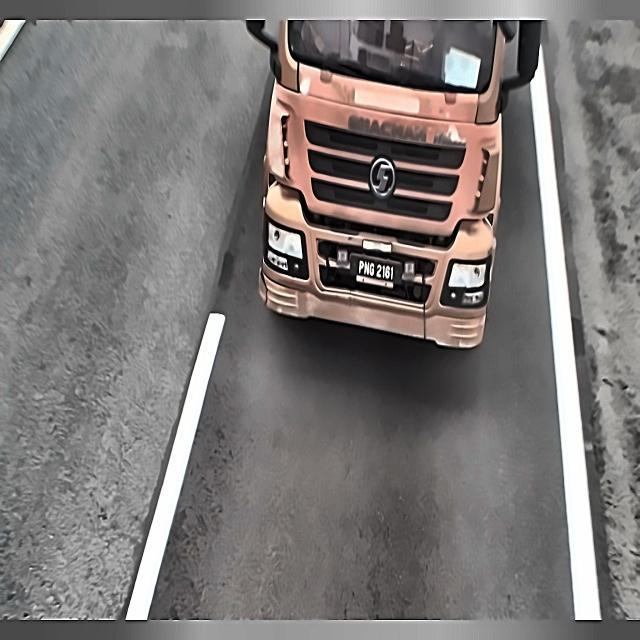car: (348, 251, 406, 292)
